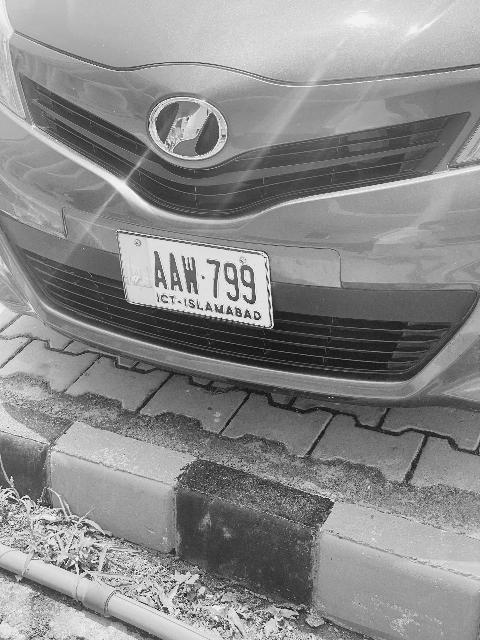Number: (152, 243, 260, 306)
